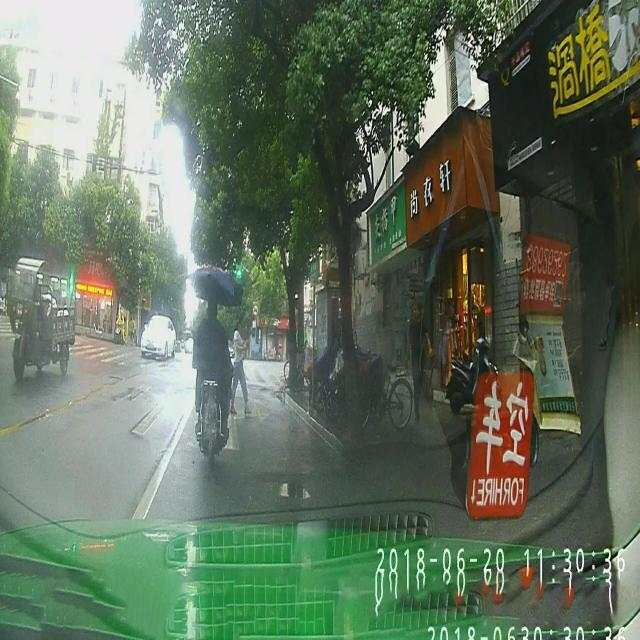car: (140, 313, 177, 361)
